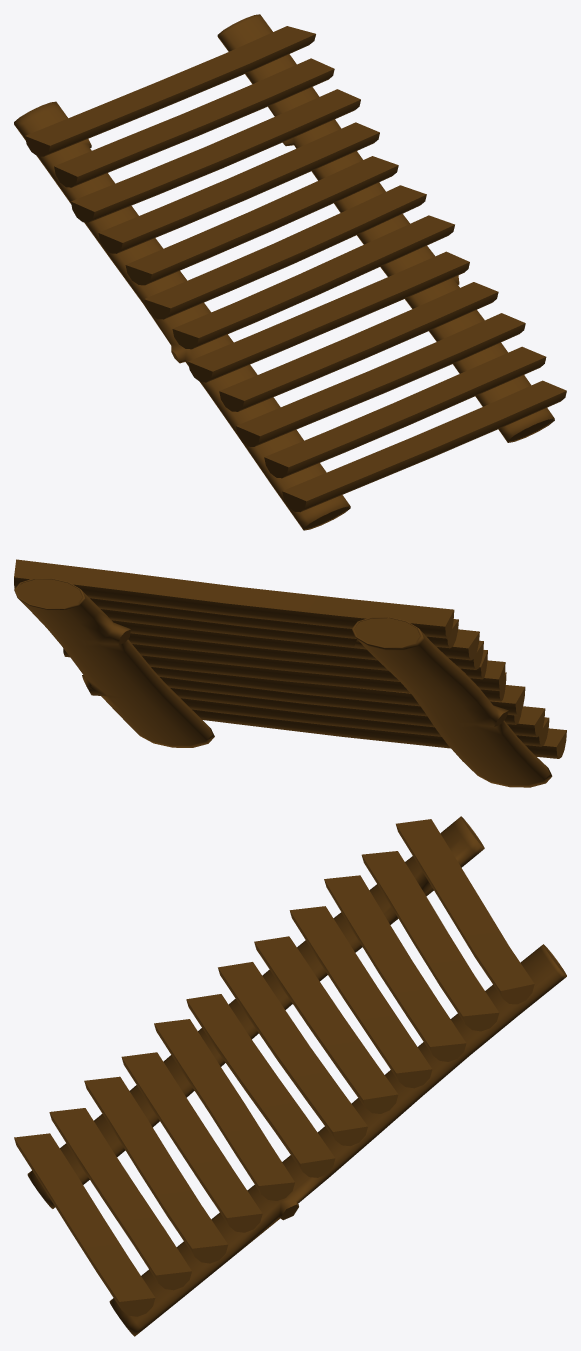
File: stairs medium.glb
3 renders of one model, top to bottom at view 1: azimuth 30°, elevation 25°; view 2: azimuth 150°, elevation 25°; view 3: azimuth 270°, elevation 25°, orthographic. The views are drawn at different scales.
Visible parts, largest first — view 1: LogStaris_01_GEO2; view 2: LogStaris_01_GEO2; view 3: LogStaris_01_GEO2.
Boxes of the visible parts, left/top/right/bottom form: LogStaris_01_GEO2: left=14, top=14, right=566, bottom=530; LogStaris_01_GEO2: left=14, top=559, right=566, bottom=787; LogStaris_01_GEO2: left=14, top=816, right=566, bottom=1336.
Size of the model in its own units: 44.43 by 32.22 by 48.81.
